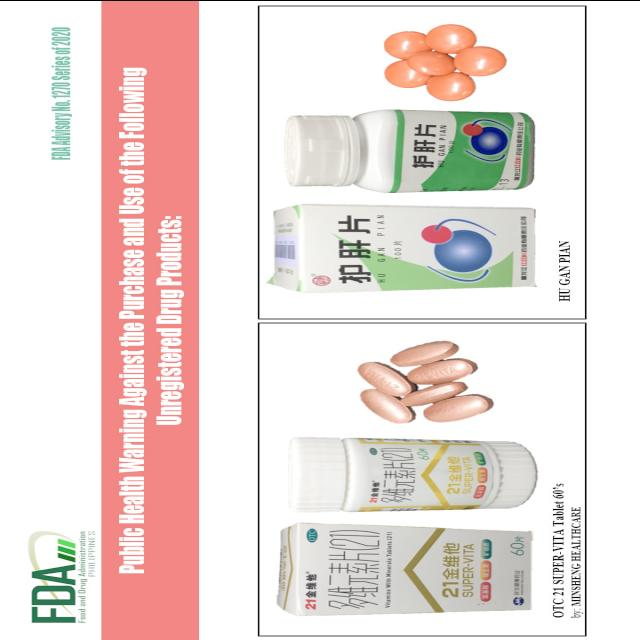counterfeit: (274, 525, 538, 621), (267, 204, 541, 294), (282, 105, 534, 195), (288, 438, 538, 514), (351, 329, 496, 426), (379, 18, 524, 102)
